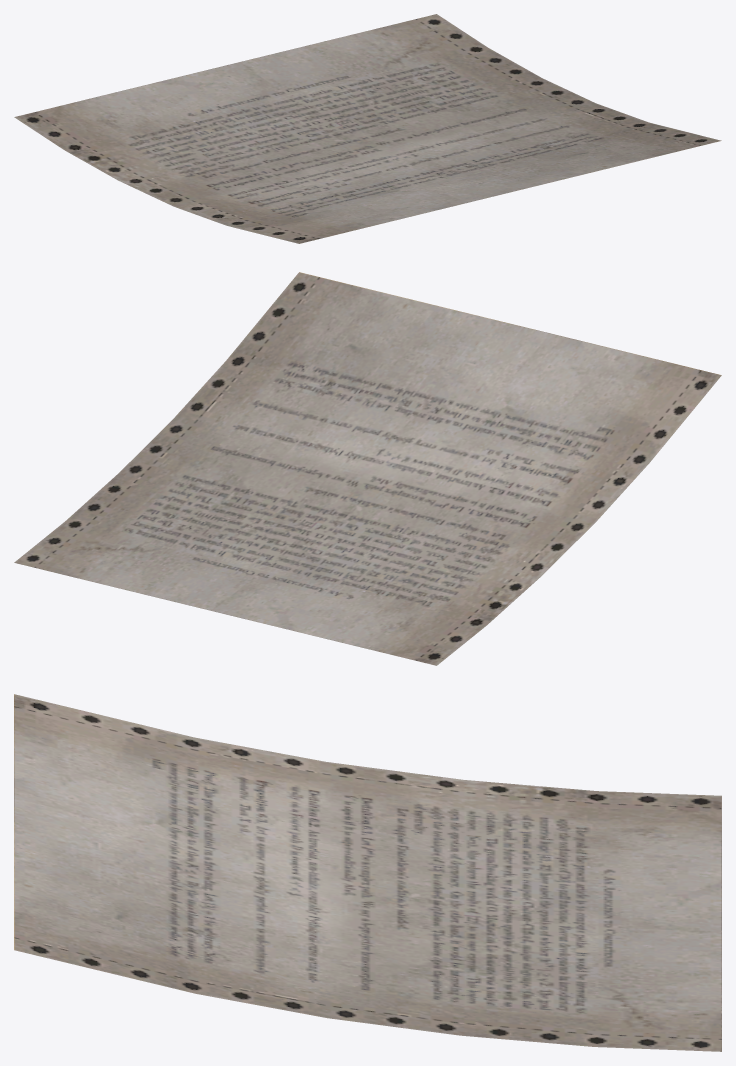
File: papers_printed_text.dae
3 renders of one model, top to bottom at view 1: azimuth 30°, elevation 25°; view 2: azimuth 150°, elevation 25°; view 3: azimuth 270°, elevation 25°, orthographic. The views are drawn at different scales.
Visible parts, largest first — view 1: printed; view 2: printed; view 3: printed.
Boxes of the visible parts, x1,y1,x2,y2 form: printed: [14, 14, 721, 243]; printed: [14, 272, 721, 665]; printed: [14, 694, 721, 1051].
Bounding box in the file's own units: 0.2113 × 0.0391 × 0.2468.
